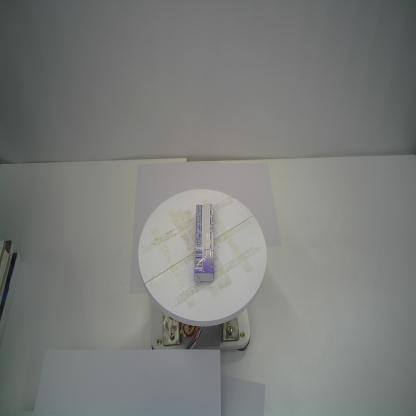Candy: (194, 201, 215, 281)
